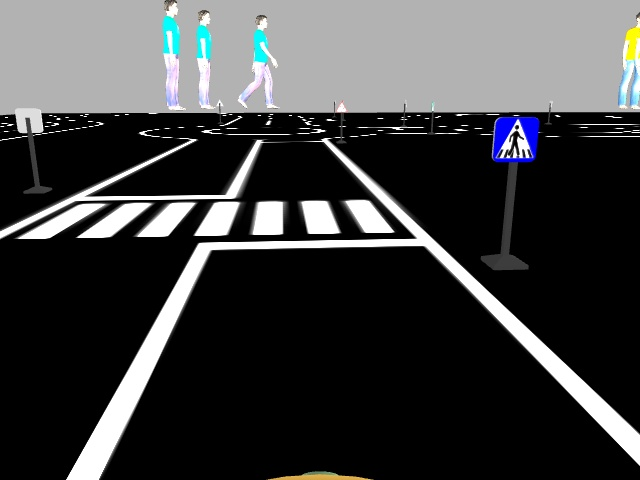Crosswalk: (489, 115, 540, 164)
